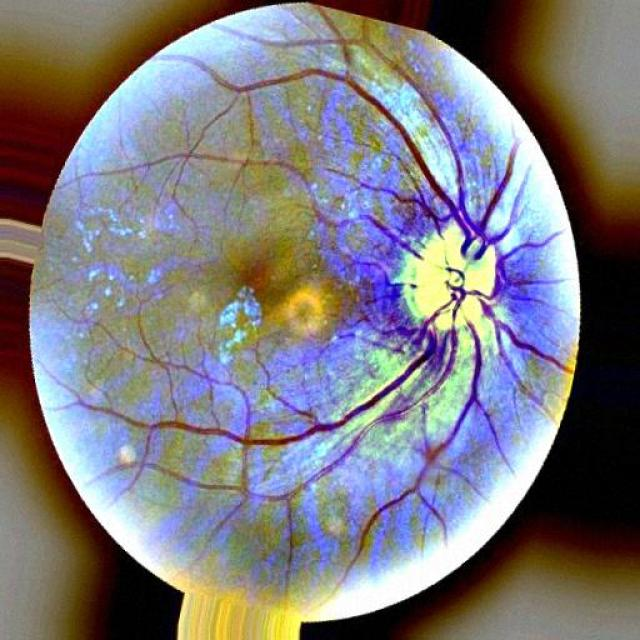Macula: (239, 260, 273, 289)
Optic Disk: (392, 228, 494, 330)
